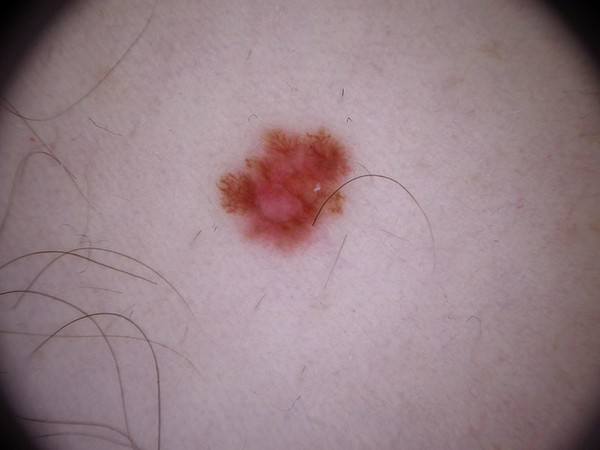Detected Lesion: (210, 122, 361, 255)
